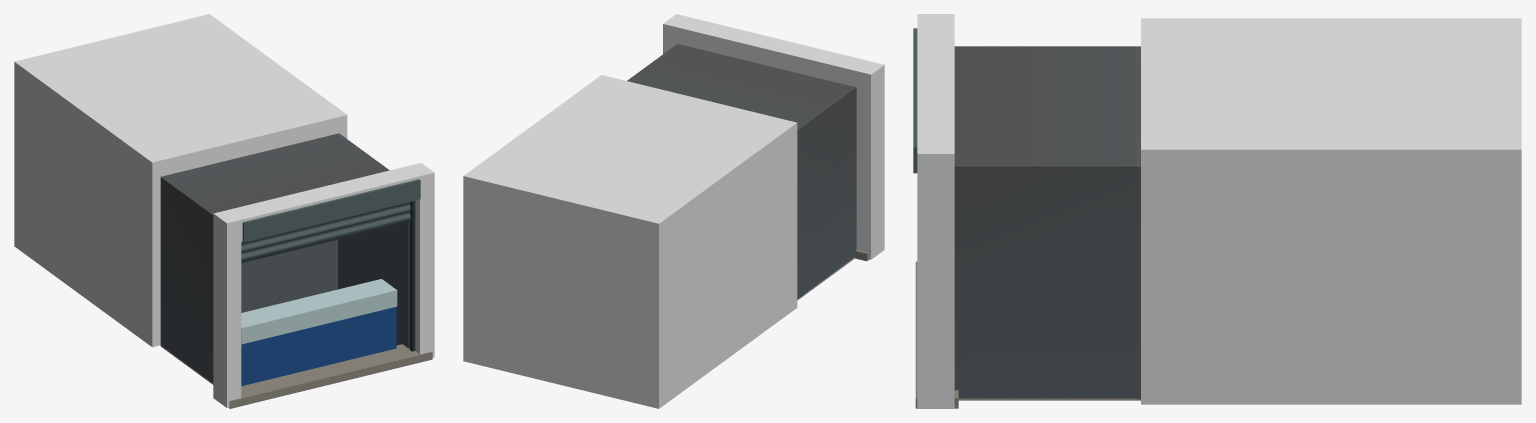
File: tret_sua_dt_40.glb
3 views of the same model, side by side, from view 1: azimuth 30°, elevation 25°; view 2: azimuth 150°, elevation 25°; view 3: azimuth 270°, elevation 25° (orthographic). The views are drawn at different scales.
Parts seen in each view (by area): view 1: tret_sua_dt_40; view 2: tret_sua_dt_40; view 3: tret_sua_dt_40.
Boxes of the visible parts, box(x1,y1,x2,y2) form: tret_sua_dt_40: box(14, 14, 434, 408); tret_sua_dt_40: box(463, 14, 884, 408); tret_sua_dt_40: box(913, 14, 1521, 408).
Bounding box in the file's own units: 4 × 3.42 × 7.35.
